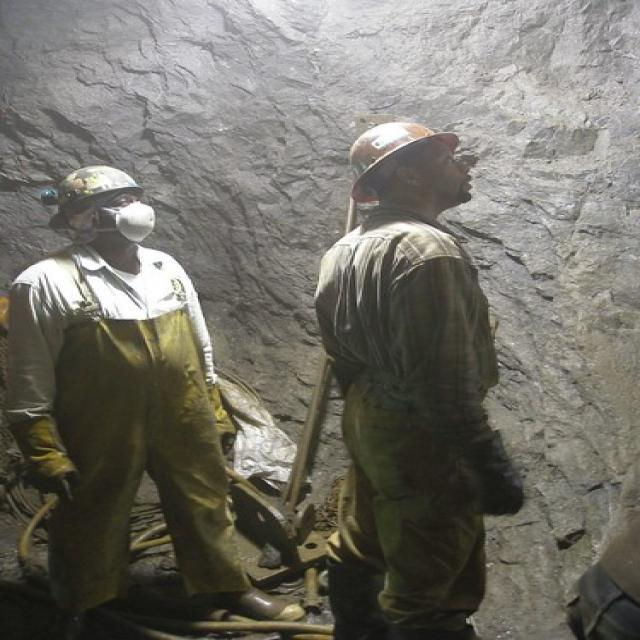Safety-Helmet: (338, 116, 468, 184), (46, 161, 149, 209), (109, 198, 162, 247)
